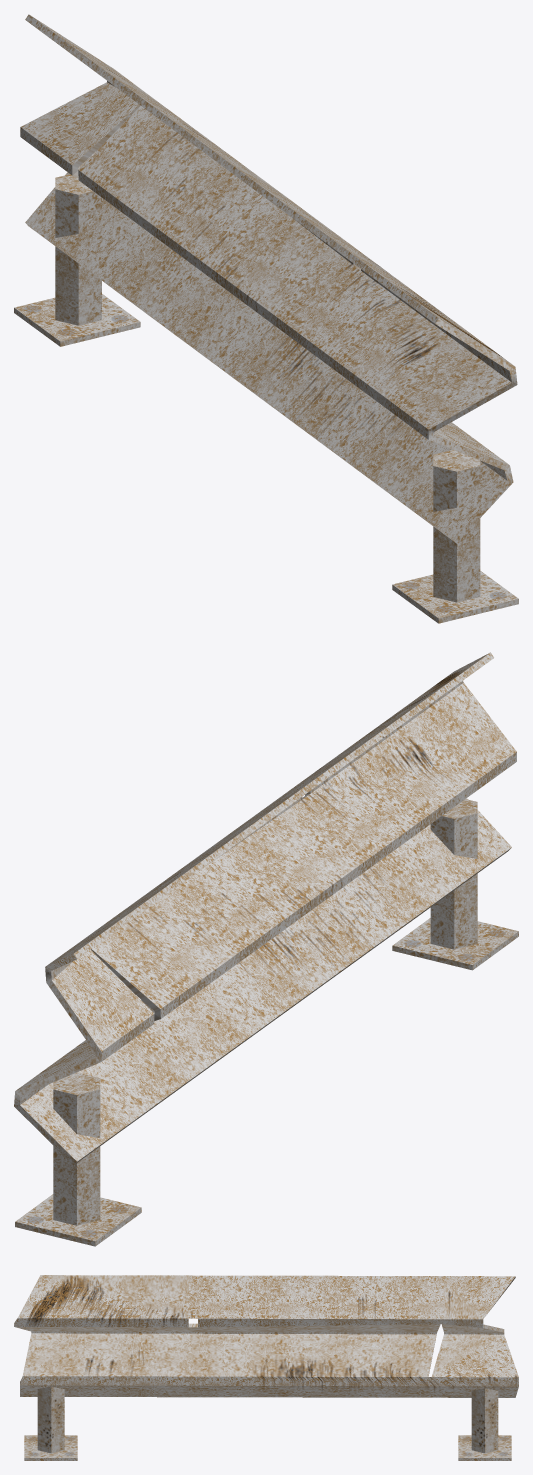
Rendered from barrier_broken.fbx.
3 views of the same model, one above another, from view 1: azimuth 30°, elevation 25°; view 2: azimuth 150°, elevation 25°; view 3: azimuth 270°, elevation 25° (orthographic). The views are drawn at different scales.
Visible parts, largest first — view 1: barrier_02; view 2: barrier_02; view 3: barrier_02.
Part boxes in pixels (bbox=[...]): barrier_02: bbox=[14, 14, 518, 623]; barrier_02: bbox=[14, 652, 518, 1246]; barrier_02: bbox=[14, 1275, 518, 1460].
Bounding box in the file's own units: 14.49 × 47.91 × 131.
Materials: 1 (1 with a texture image).
